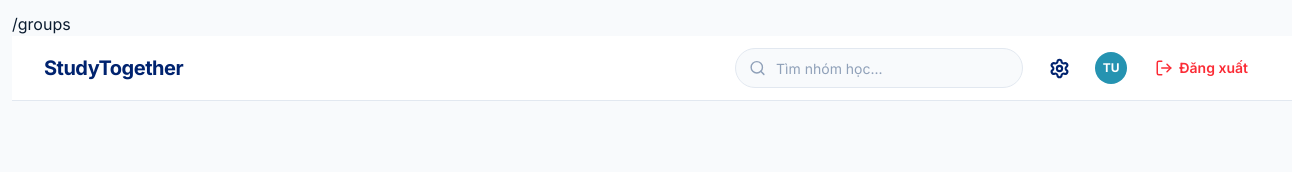
Test: Header logout lifecycle › does not claim logout succeeded if Supabase failed
The width and height of the screenshot is (1292, 172).
Click the button "Đăng xuất". click: {"x": 1202, "y": 68}
box: [1143, 48, 1260, 88]
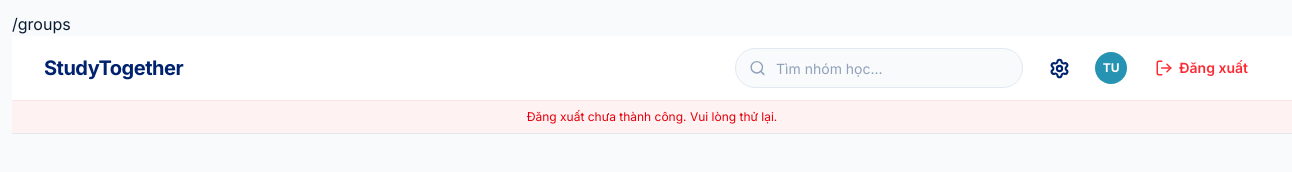
Expected: the text with test id "pathname" reads "/groups", [12, 14, 71, 34]
Now the message shows "Đăng xuất chưa thành công", box [527, 109, 777, 124]
